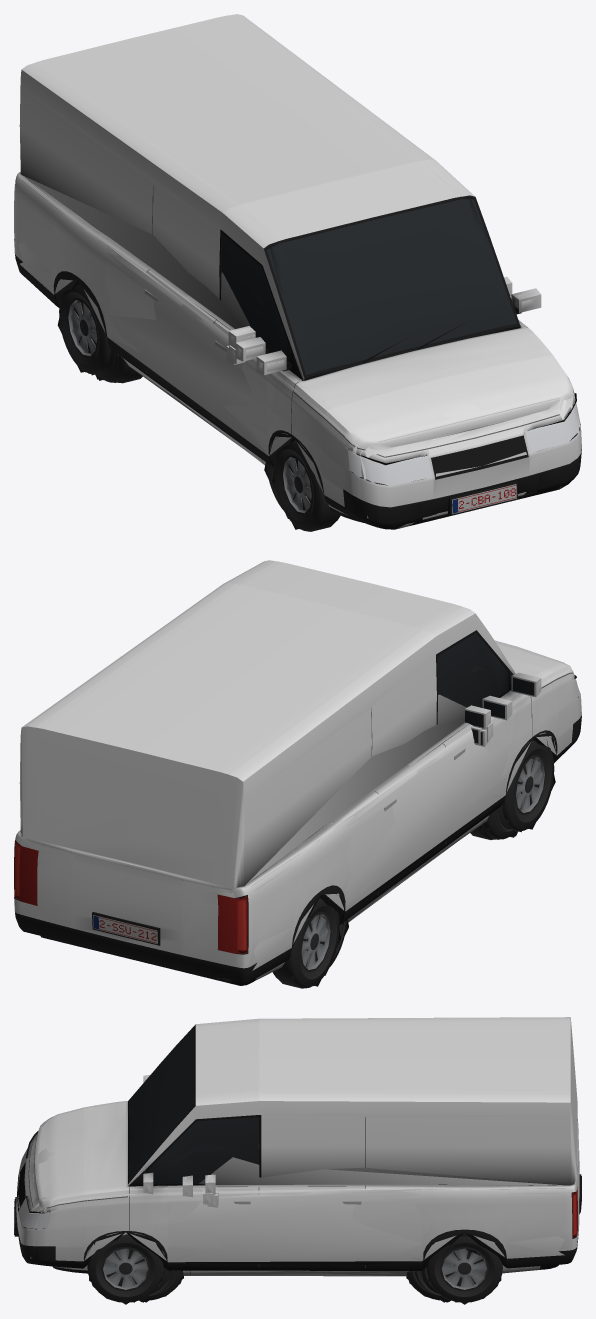
Rendered from cars2_r0.glb.
The picture shows the model from 3 angles, top to bottom: view 1: azimuth 30°, elevation 25°; view 2: azimuth 150°, elevation 25°; view 3: azimuth 270°, elevation 25°; orthographic projection. The views are drawn at different scales.
Visible parts, largest first — view 1: Body, Body_L1, Body_L2, Wheel_FR, Wheel_RR, Wheel_FR_L1, Wheel_RR_L1; view 2: Body (×2), Body_L1, Body_L2, Wheel_RR, Wheel_FR, Wheel_RR_L1, Wheel_FR_L1; view 3: Body (×2), Body_L1 (×2), Body_L2, Wheel_FL, Wheel_RL, Wheel_FL_L1, Wheel_RL_L1.
Part boxes in pixels (bbox=[...]): Body: bbox=[14, 14, 581, 529]; Body_L1: bbox=[14, 15, 580, 529]; Body_L2: bbox=[18, 176, 580, 529]; Wheel_FR: bbox=[273, 440, 340, 531]; Wheel_RR: bbox=[59, 284, 110, 374]; Wheel_FR_L1: bbox=[282, 455, 339, 531]; Wheel_RR_L1: bbox=[67, 298, 109, 374]; Body (×2): bbox=[14, 560, 581, 985]; Body_L1: bbox=[14, 561, 581, 981]; Body_L2: bbox=[23, 660, 580, 980]; Wheel_RR: bbox=[272, 898, 339, 988]; Wheel_FR: bbox=[502, 740, 554, 831]; Wheel_RR_L1: bbox=[273, 912, 331, 988]; Wheel_FR_L1: bbox=[503, 754, 545, 831]; Body (×2): bbox=[14, 1017, 581, 1275]; Body_L1 (×2): bbox=[17, 1019, 579, 1275]; Body_L2: bbox=[18, 1120, 578, 1270]; Wheel_FL: bbox=[87, 1235, 163, 1302]; Wheel_RL: bbox=[427, 1236, 502, 1302]; Wheel_FL_L1: bbox=[87, 1247, 164, 1303]; Wheel_RL_L1: bbox=[426, 1247, 502, 1303].
Size of the model in its own units: 2.26 by 1.98 by 5.03.
